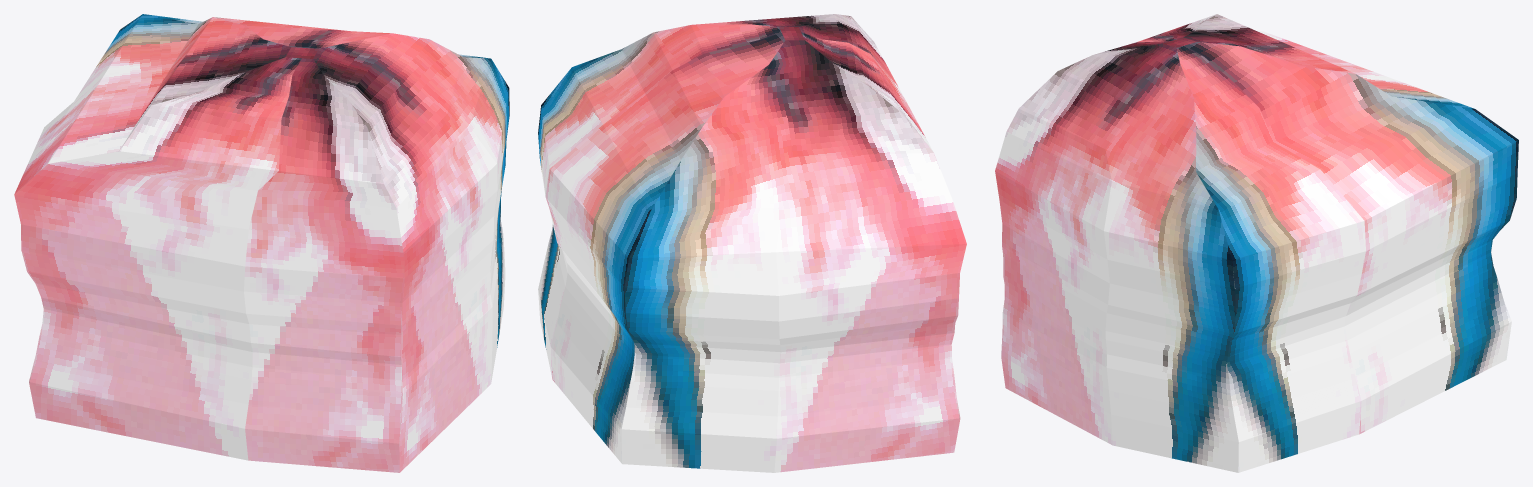
3 views of the same model, side by side, from view 1: azimuth 30°, elevation 25°; view 2: azimuth 150°, elevation 25°; view 3: azimuth 270°, elevation 25° (orthographic). The views are drawn at different scales.
Parts seen in each view (by area): view 1: SPLICE_1; view 2: SPLICE_1; view 3: SPLICE_1.
Part boxes in pixels (left/top/right/bottom): SPLICE_1: left=14, top=14, right=509, bottom=472; SPLICE_1: left=538, top=14, right=966, bottom=472; SPLICE_1: left=995, top=14, right=1518, bottom=472.
Size of the model in its own units: 1.31 by 0.9511 by 1.31.
1 material, 1 textured.
